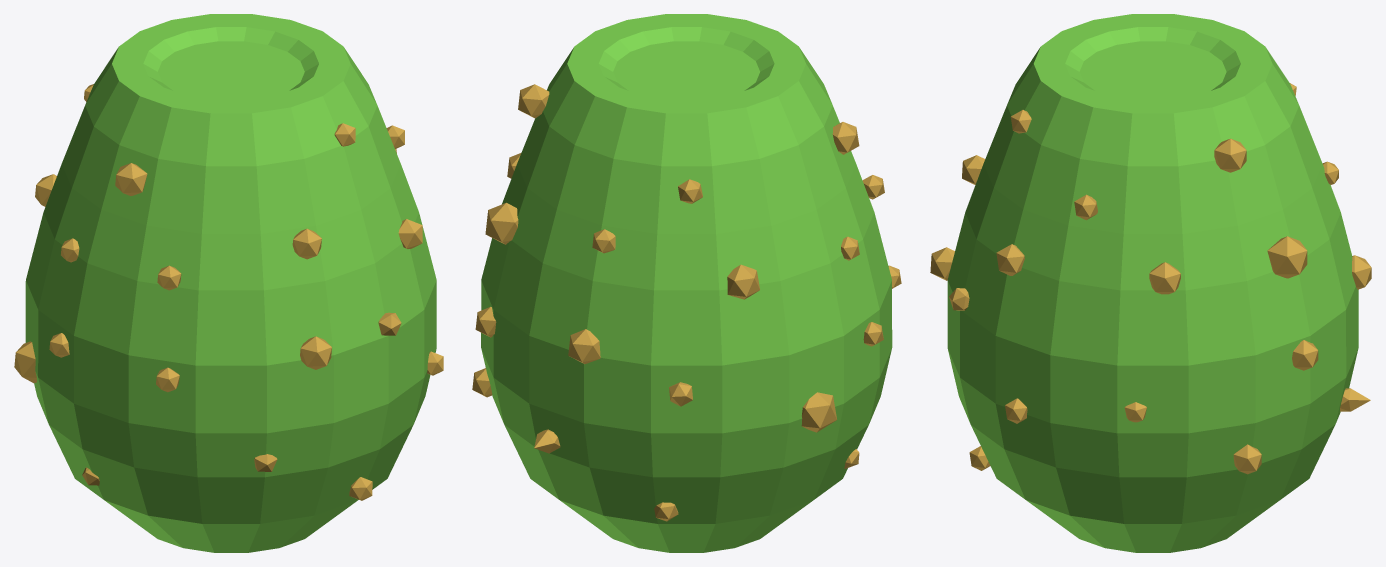
The model's file is tuna.fbx.
3 views of the same model, side by side, from view 1: azimuth 30°, elevation 25°; view 2: azimuth 150°, elevation 25°; view 3: azimuth 270°, elevation 25° (orthographic).
Parts seen in each view (by area): view 1: Tuna1, Tuna2; view 2: Tuna1, Tuna2; view 3: Tuna1, Tuna2.
Boxes of the visible parts, box(x1,y1,x2,y2) form: Tuna1: box(25, 14, 436, 552); Tuna2: box(14, 84, 443, 500); Tuna1: box(481, 14, 892, 552); Tuna2: box(472, 84, 901, 521); Tuna1: box(947, 14, 1358, 552); Tuna2: box(930, 83, 1371, 474).
Size of the model in its own units: 104 by 120 by 107.
